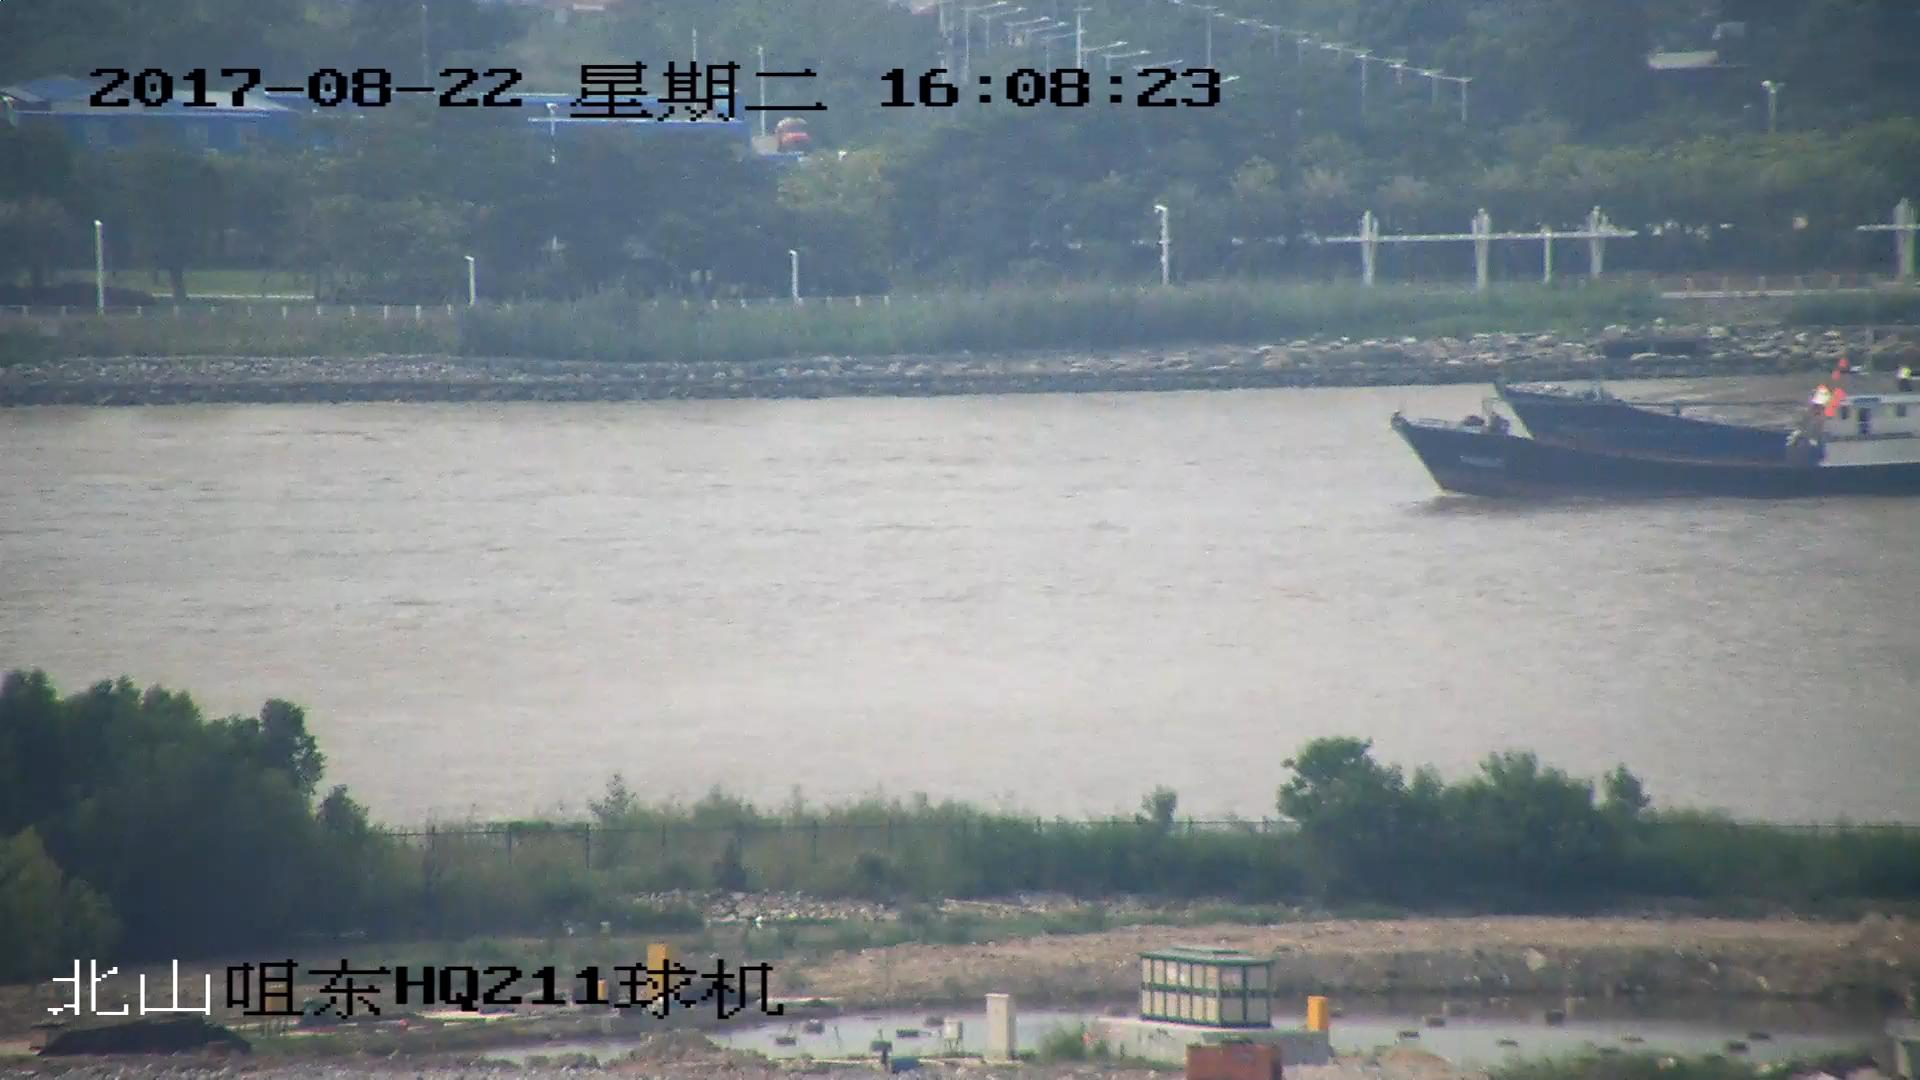fishing boat: (1387, 410, 1920, 502), (1491, 358, 1920, 448)
